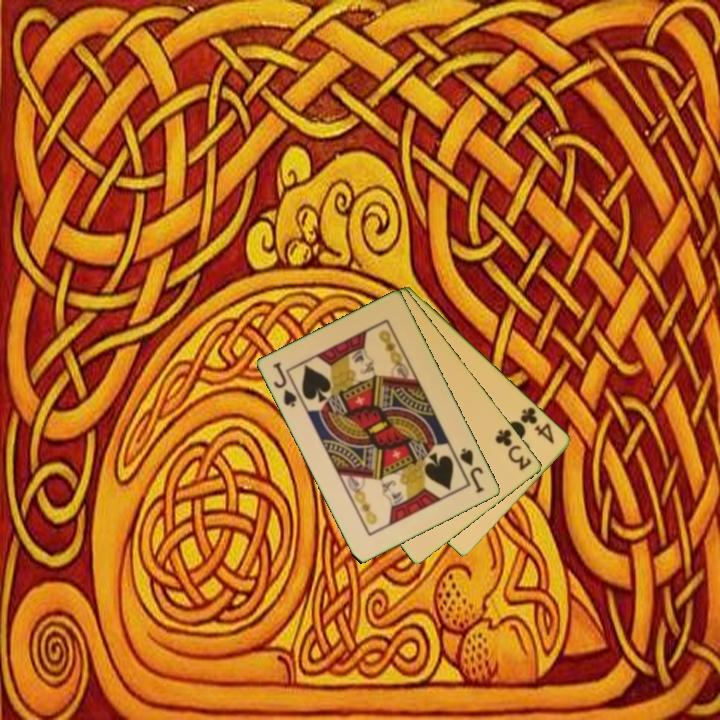3c: (492, 425, 535, 473)
4c: (517, 403, 558, 447)
Js: (456, 444, 487, 496), (269, 358, 300, 410)
